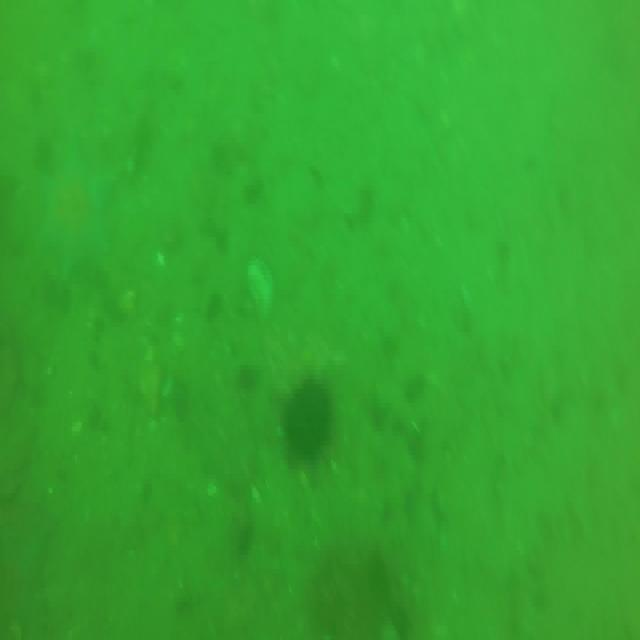echinus: (286, 376, 336, 471)
scallop: (246, 258, 272, 319)
